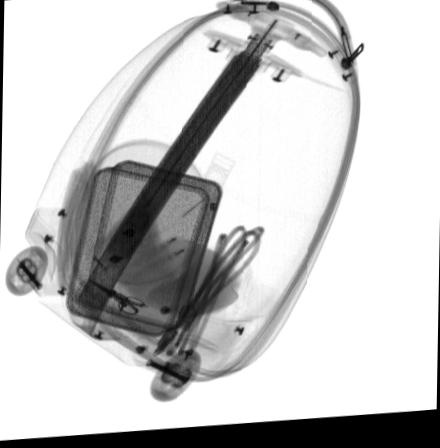Scissors: (87, 278, 144, 317)
